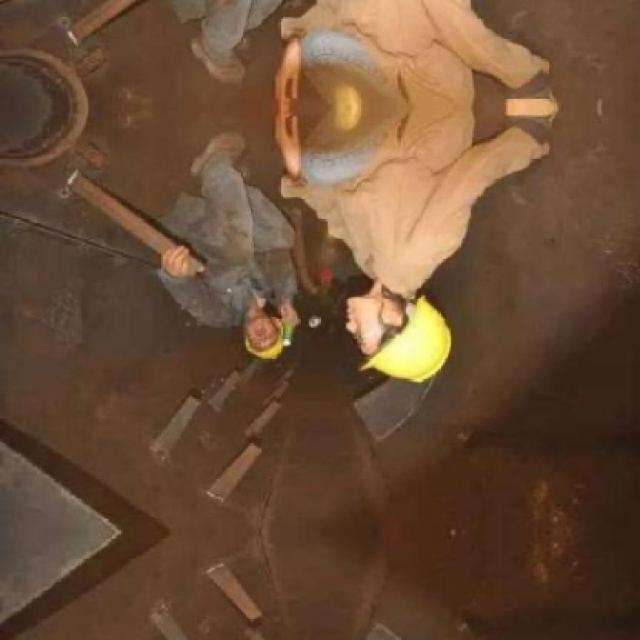con casco: (328, 270, 487, 374), (210, 311, 300, 370)
